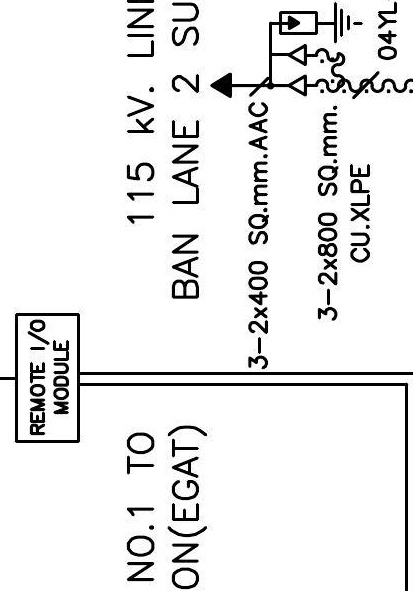115_la: (278, 1, 364, 44)
remote_io_module: (15, 313, 81, 444)
terminator_double: (268, 43, 308, 98)
